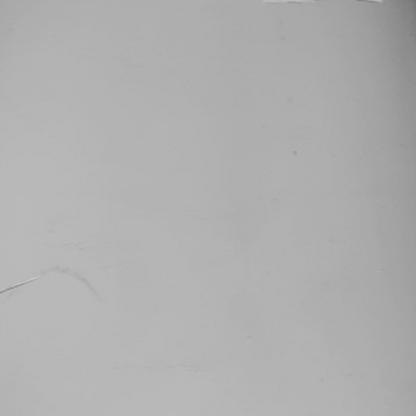sunshang: (1, 274, 45, 297)
